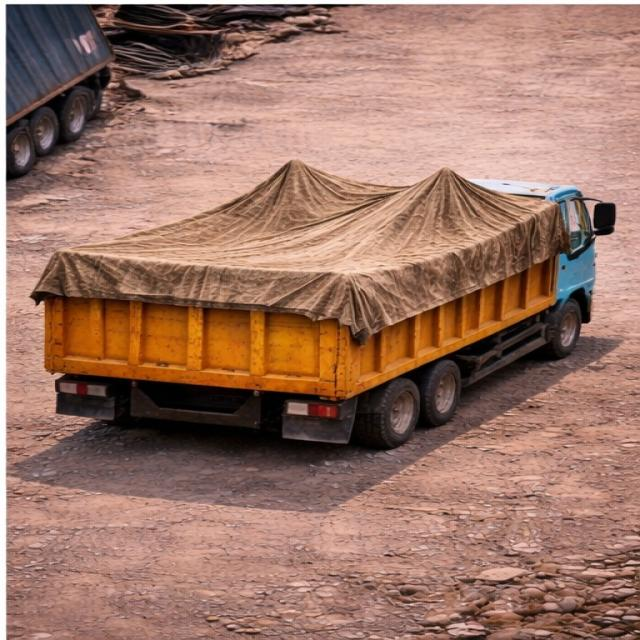trailer: (57, 161, 555, 286)
truck: (34, 154, 621, 438)
